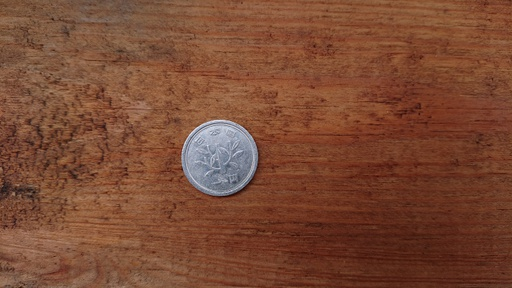1yen: (181, 120, 257, 196)
